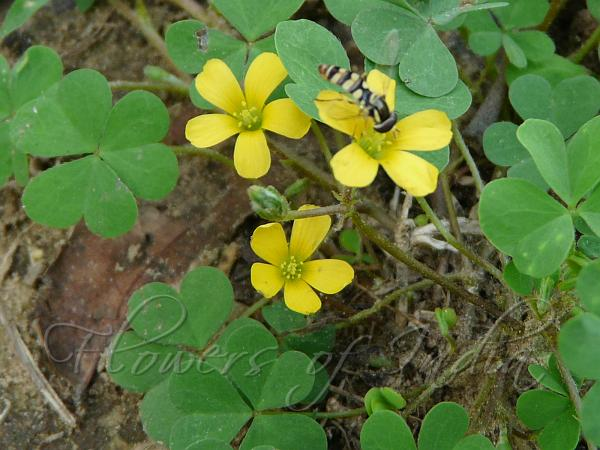oxalis: (487, 49, 600, 447), (110, 265, 344, 450), (4, 42, 192, 246)
